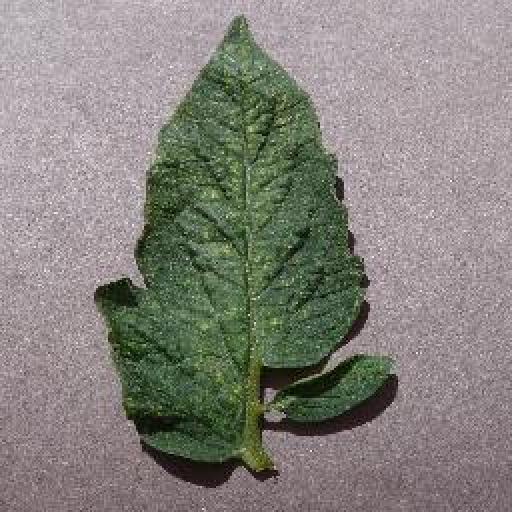Spider Mites: (94, 9, 366, 464)
